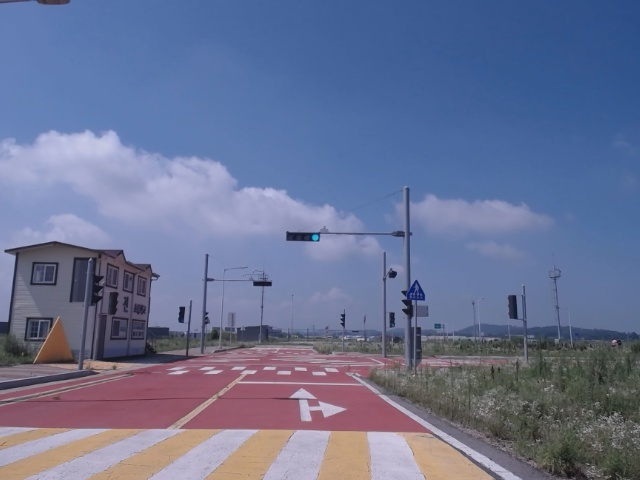straight_green_4: (287, 233, 320, 241)
